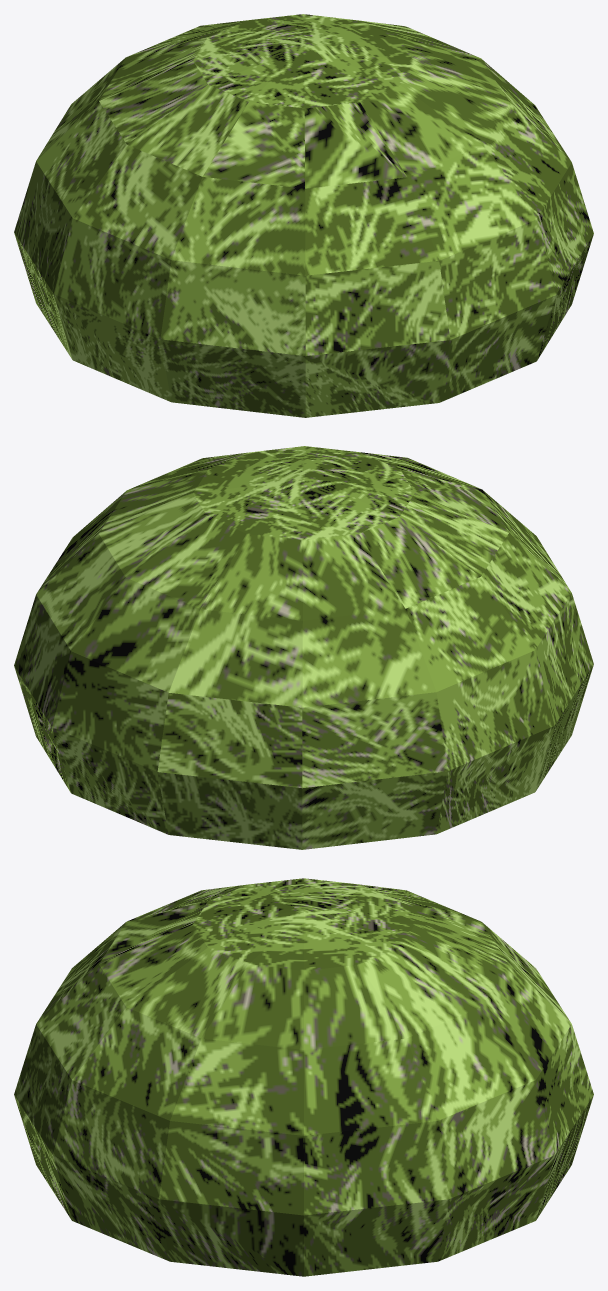
Rendered from moss-pod.glb.
The picture shows the model from 3 angles, top to bottom: view 1: azimuth 30°, elevation 25°; view 2: azimuth 150°, elevation 25°; view 3: azimuth 270°, elevation 25°; orthographic projection.
Parts seen in each view (by area): view 1: Sphere; view 2: Sphere; view 3: Sphere.
Part boxes in pixels (x1=…): Sphere: x1=14, y1=14, x2=593, y2=417; Sphere: x1=14, y1=446, x2=593, y2=849; Sphere: x1=14, y1=878, x2=593, y2=1276.
Bounding box in the file's own units: 1.46 × 0.7166 × 1.48.
Materials: 1 (1 with a texture image).
